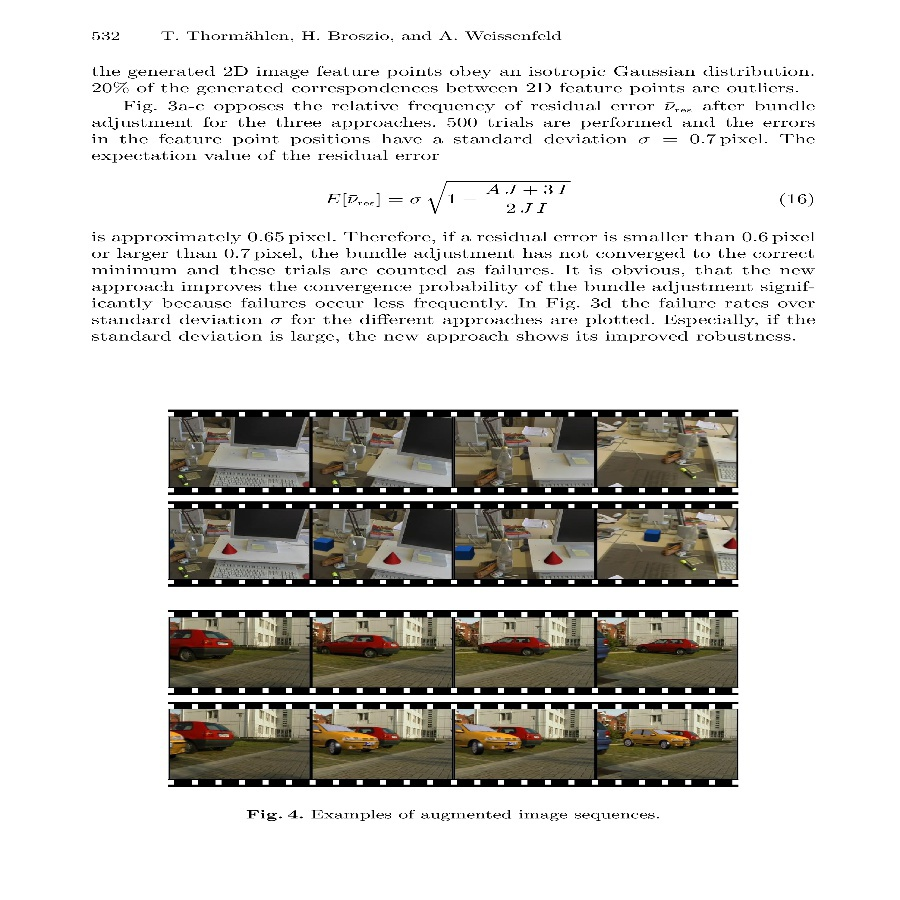eq: (325, 177, 579, 220)
